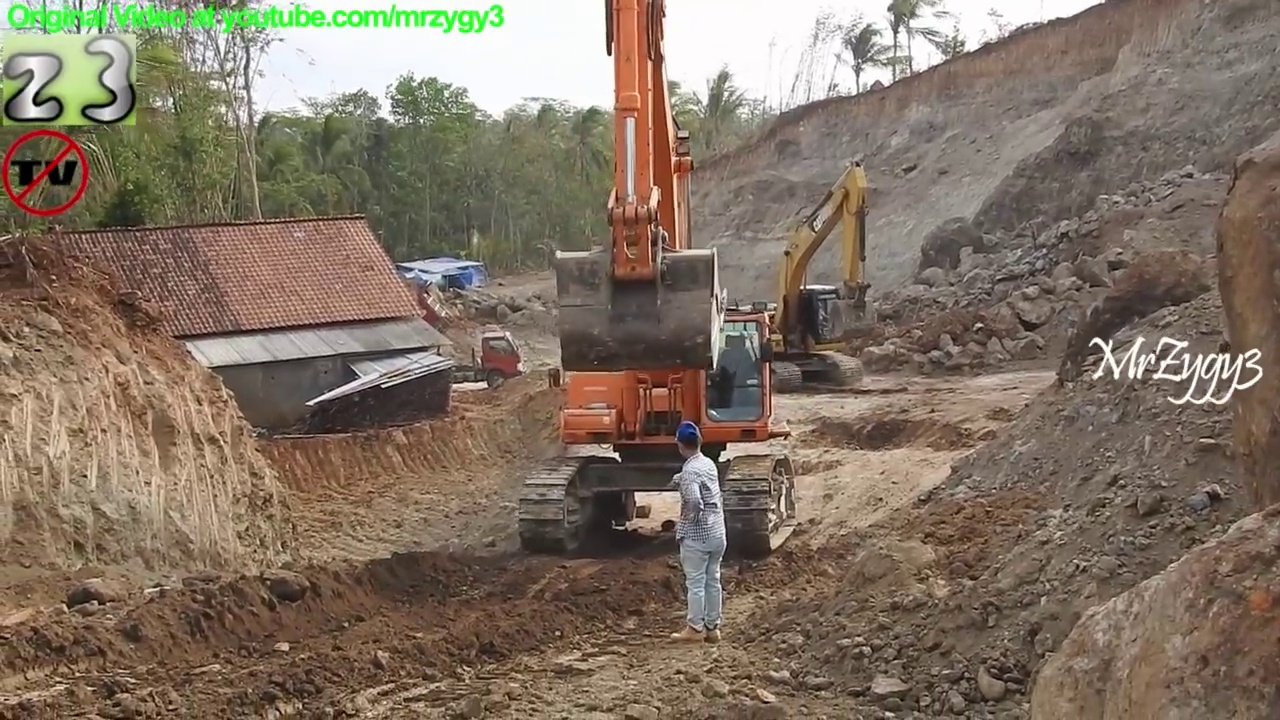excavator: (519, 4, 795, 551), (768, 156, 873, 392)
person: (672, 419, 731, 645)
truck: (436, 332, 521, 385)
